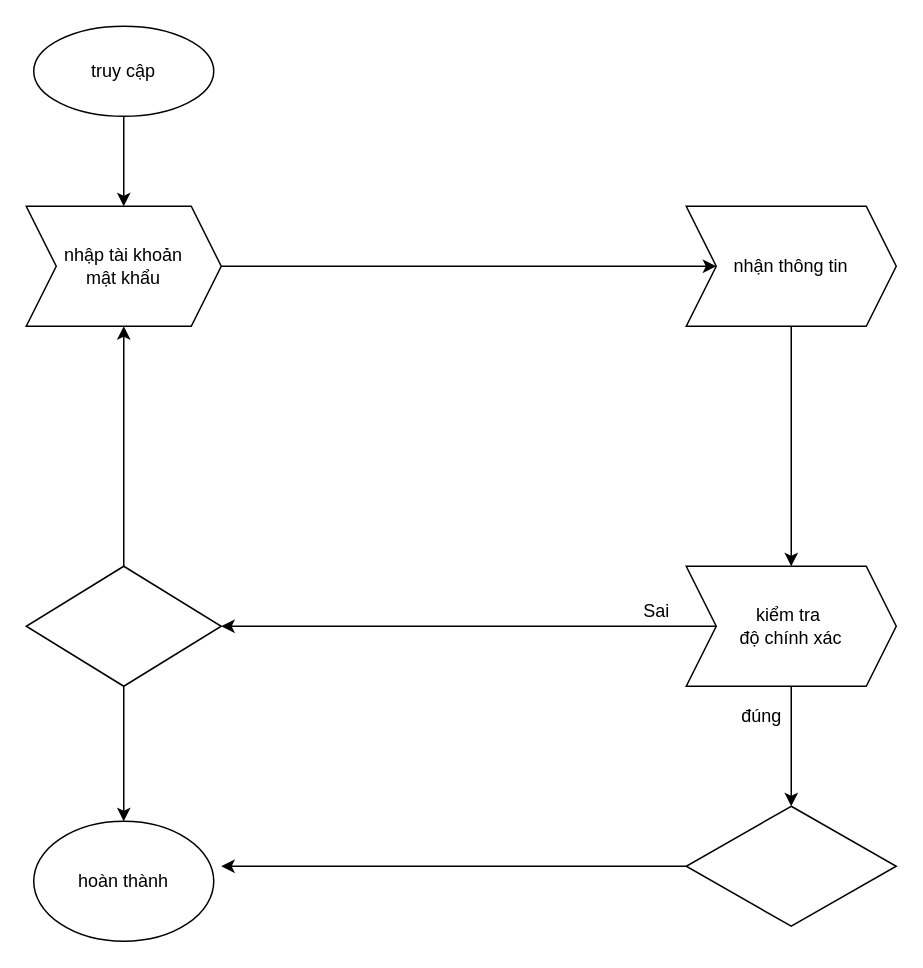
Some shapes in this 923 by 968 pixel diagram are drawn without their labels. The shapes that lost their labels are listed below. From the top down, each one's centre as x and y in pixels, then its label:
point 123,625: thông báo
point 790,865: đăng nhập thành công
